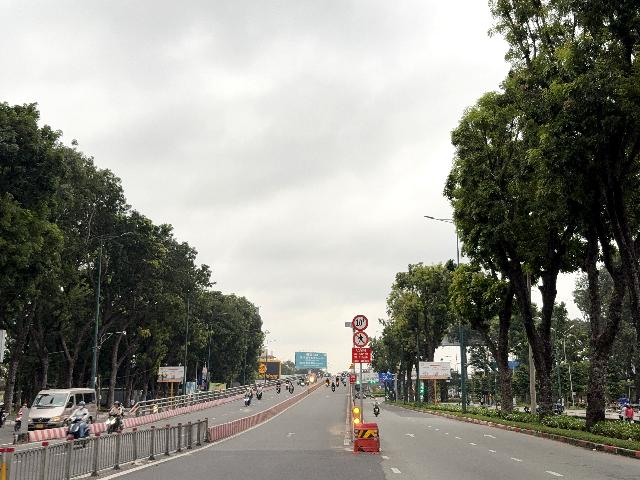cam-nguoi-di-bo: (353, 331, 368, 348)
han-che-trong-luong-xe: (352, 314, 368, 331)
